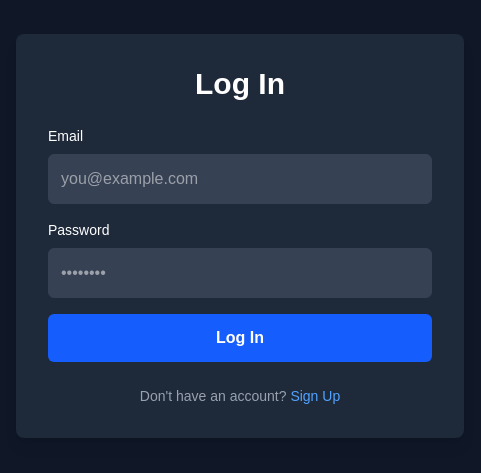
LoginPage › shows an error message if login fails
In the field labelled "Email": (240,179) [48,154,432,204], type "test@example.com"
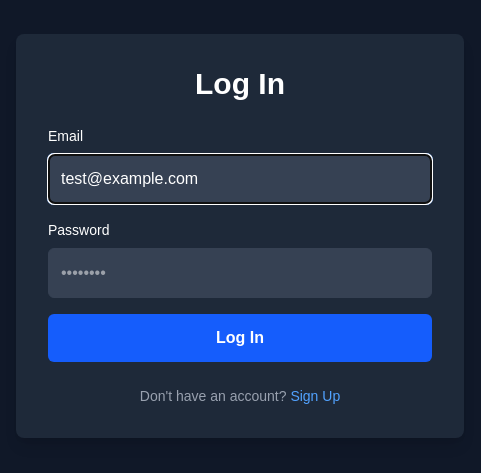
In the password field labelled "Password": (240,273) [48,248,432,298], type "wrongpassword"
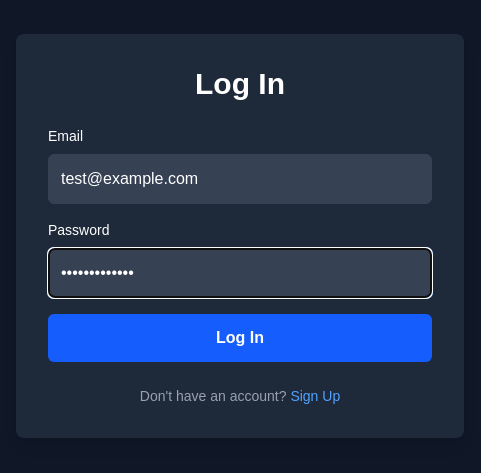
Click the button "Log In": (240,338) [48,314,432,362]
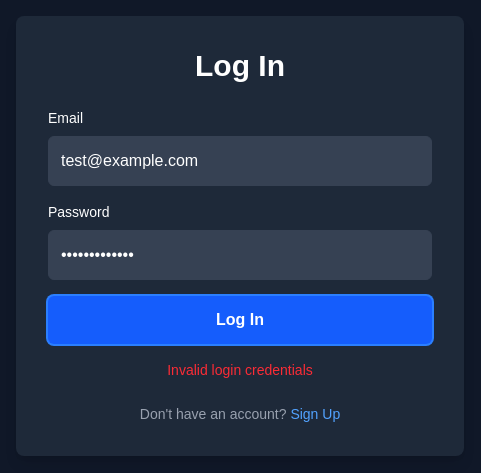
Check: the text "Invalid login credentials" is shown, box [167,362,313,378]
